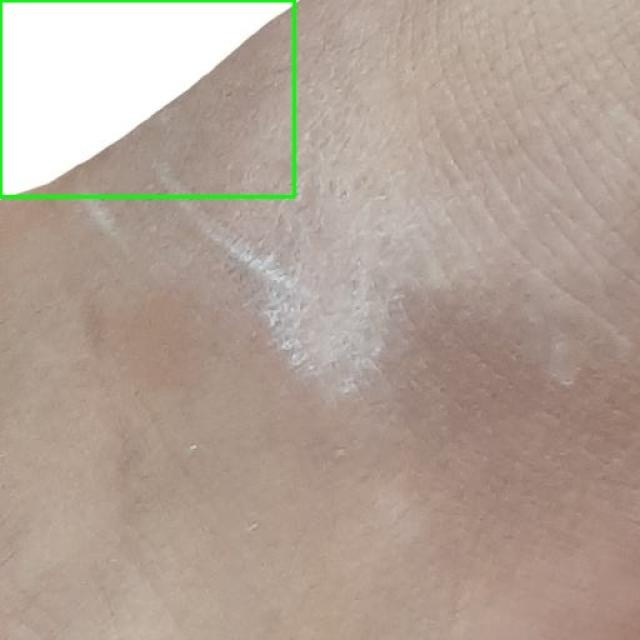Contact Dermatitis: (0, 0, 294, 196)
